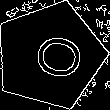O_W: (18, 28, 82, 84)
